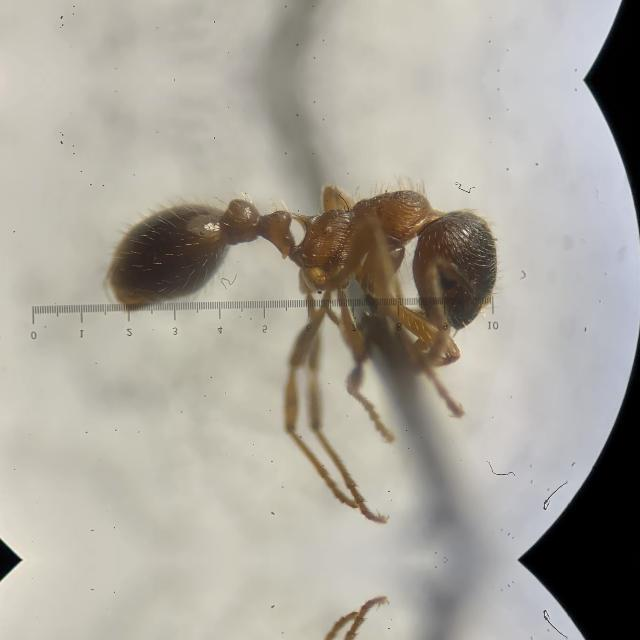Myrmica: (61, 148, 533, 432)
